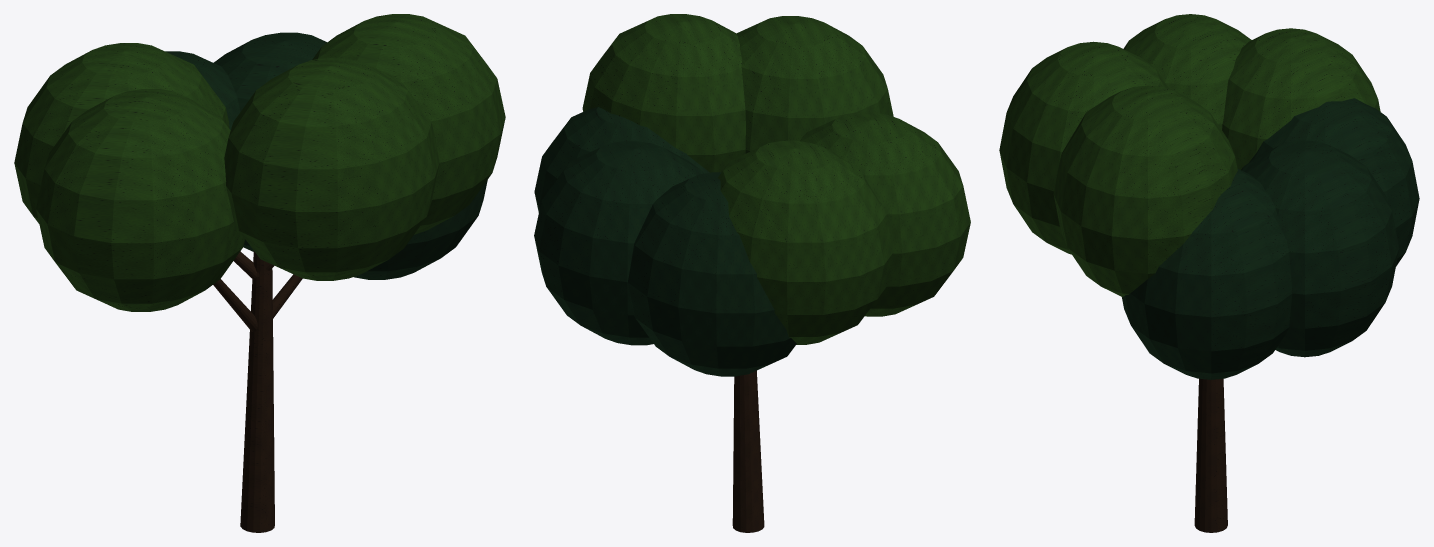
Rendered from PROP-B632D22A98E7_lod0.glb.
3 renders of one model, left to right at view 1: azimuth 30°, elevation 25°; view 2: azimuth 150°, elevation 25°; view 3: azimuth 270°, elevation 25°, orthographic. The views are drawn at different scales.
Parts seen in each view (by area): view 1: leaf_crown.031, leaf_crown.030, trunk.037, branch.019; view 2: leaf_crown.031, leaf_crown.030, trunk.037; view 3: leaf_crown.031, leaf_crown.030, trunk.037.
Boxes of the visible parts, x1,y1,x2,y2 form: leaf_crown.031: (14, 14, 505, 311); leaf_crown.030: (165, 32, 487, 279); trunk.037: (240, 251, 274, 532); branch.019: (213, 251, 302, 332); leaf_crown.031: (582, 14, 970, 344); leaf_crown.030: (534, 107, 796, 376); trunk.037: (732, 370, 764, 532); leaf_crown.031: (999, 14, 1380, 297); leaf_crown.030: (1122, 98, 1419, 379); trunk.037: (1194, 378, 1227, 532).
Bounding box in the file's own units: 7.02 × 7.6 × 6.04.
Materials: 3 (3 with a texture image).
